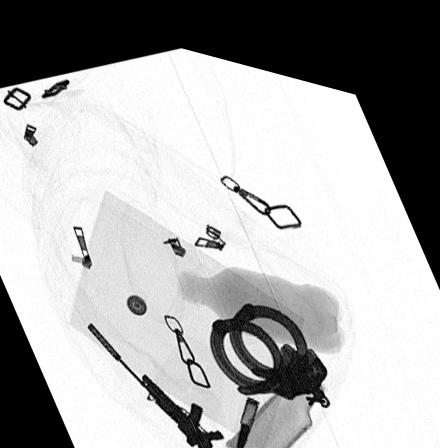Bullet: (236, 383, 258, 442)
Gun: (85, 314, 234, 448)
HandCuffs: (207, 286, 334, 391)
